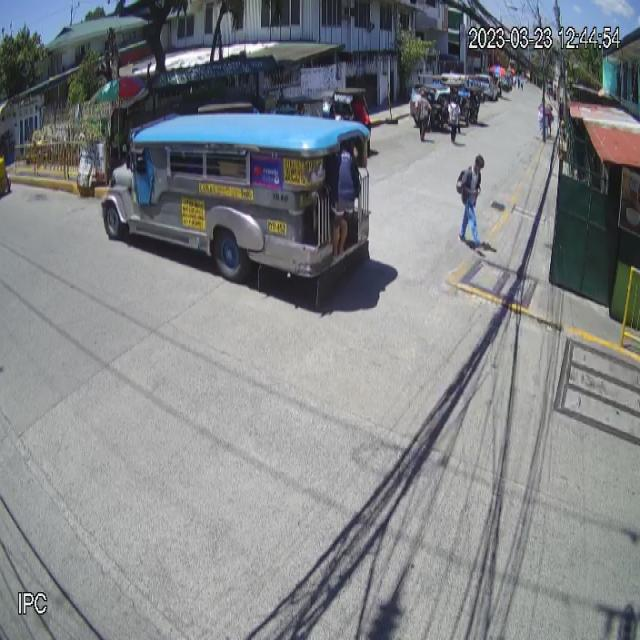Jeep: (100, 112, 373, 310)
